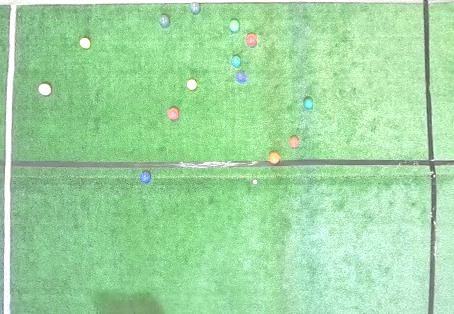blue: (140, 171, 151, 183), (235, 72, 246, 83)
green: (229, 19, 240, 32), (159, 15, 170, 28), (231, 55, 242, 67), (303, 97, 313, 109), (190, 2, 200, 14)
red: (167, 107, 179, 121), (245, 33, 257, 46), (268, 152, 280, 164), (38, 84, 51, 95), (289, 136, 299, 147)
vline: (423, 0, 453, 313), (0, 0, 20, 313)
white: (253, 180, 257, 184)
yellow: (187, 79, 197, 90), (80, 38, 90, 49)
